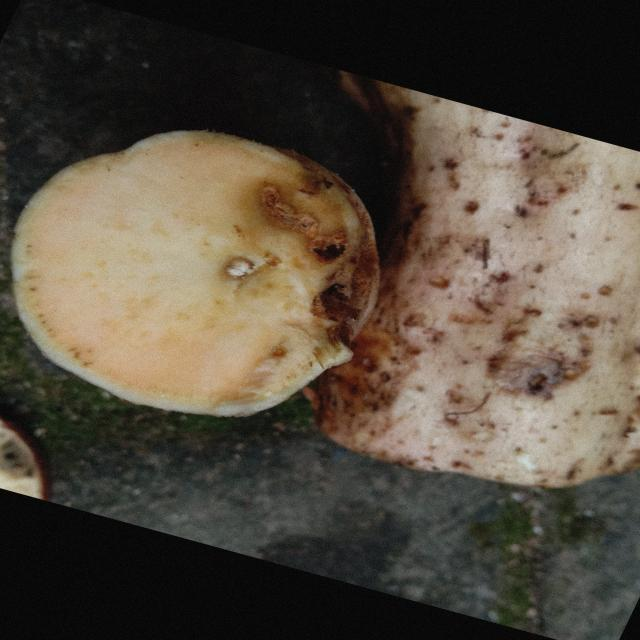Sick Sweet Potato_Tuber Rot: (12, 131, 380, 416)
